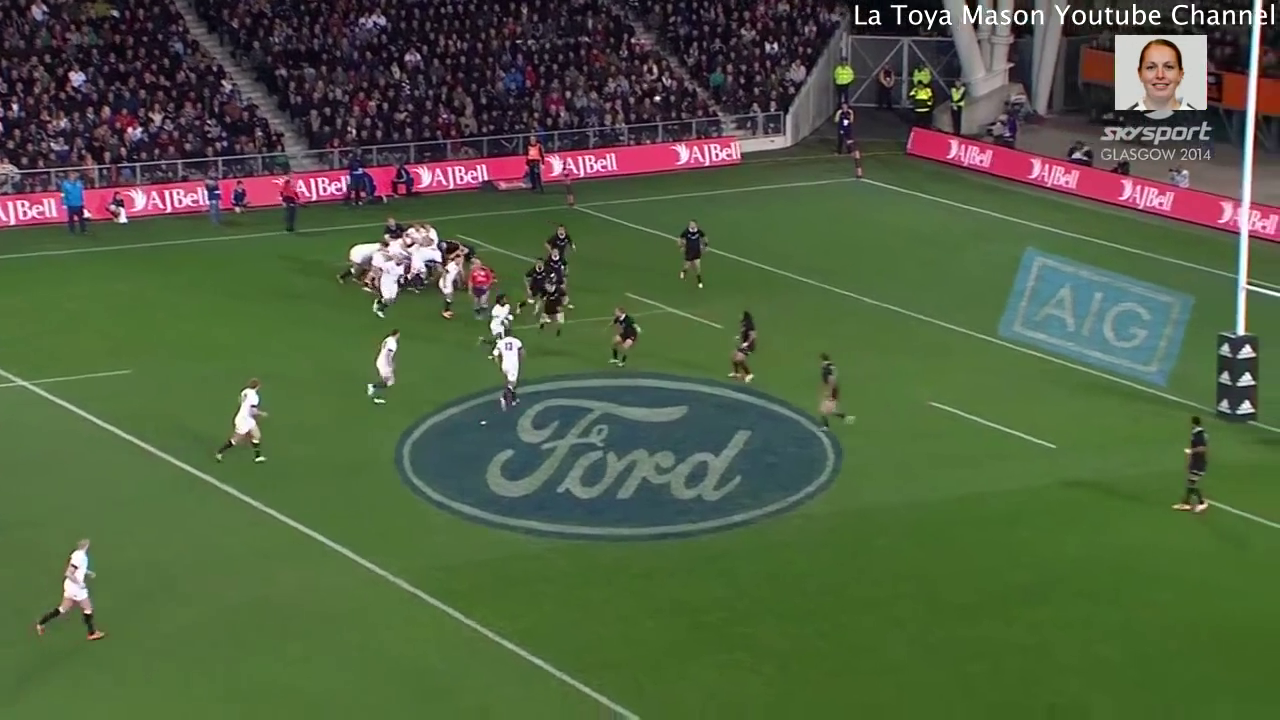player: (36, 522, 108, 649), (1163, 406, 1216, 517), (214, 371, 270, 475), (802, 341, 862, 438), (355, 322, 408, 410), (483, 330, 531, 410), (675, 211, 713, 293), (724, 309, 763, 387), (604, 304, 644, 370), (465, 256, 499, 329), (371, 253, 409, 315), (438, 253, 464, 319), (538, 278, 566, 337), (520, 257, 547, 310), (492, 288, 517, 338), (541, 223, 576, 252)
post: (1204, 158, 1280, 422)
scrum: (337, 212, 476, 292)
